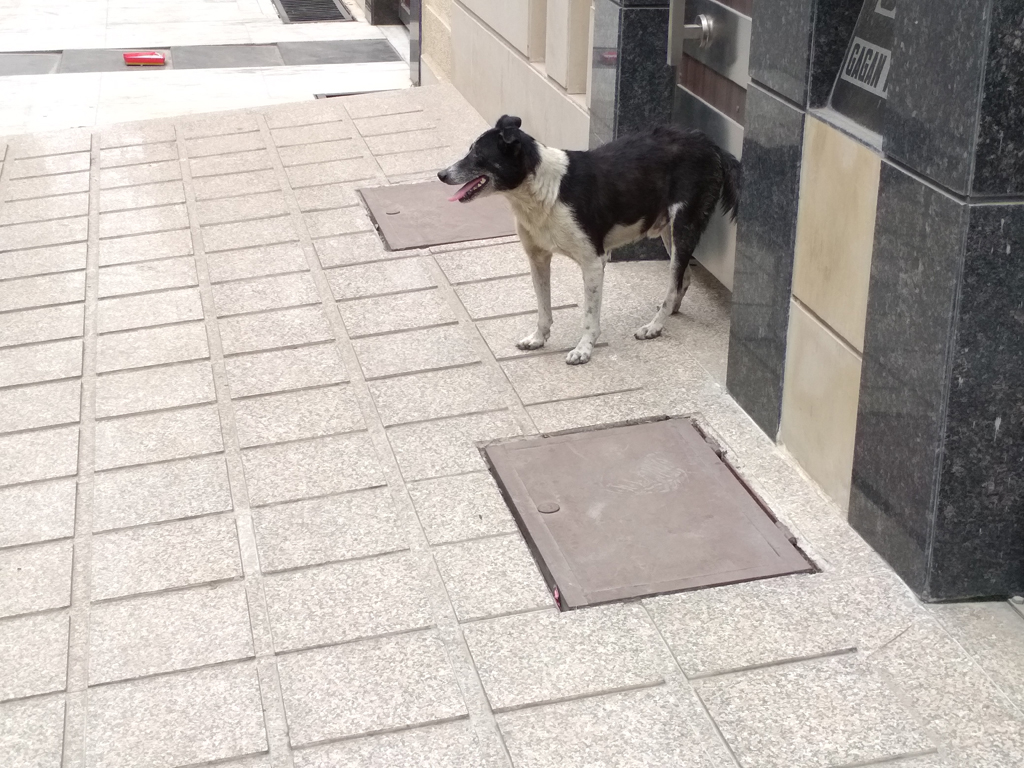dog: (437, 113, 741, 364)
